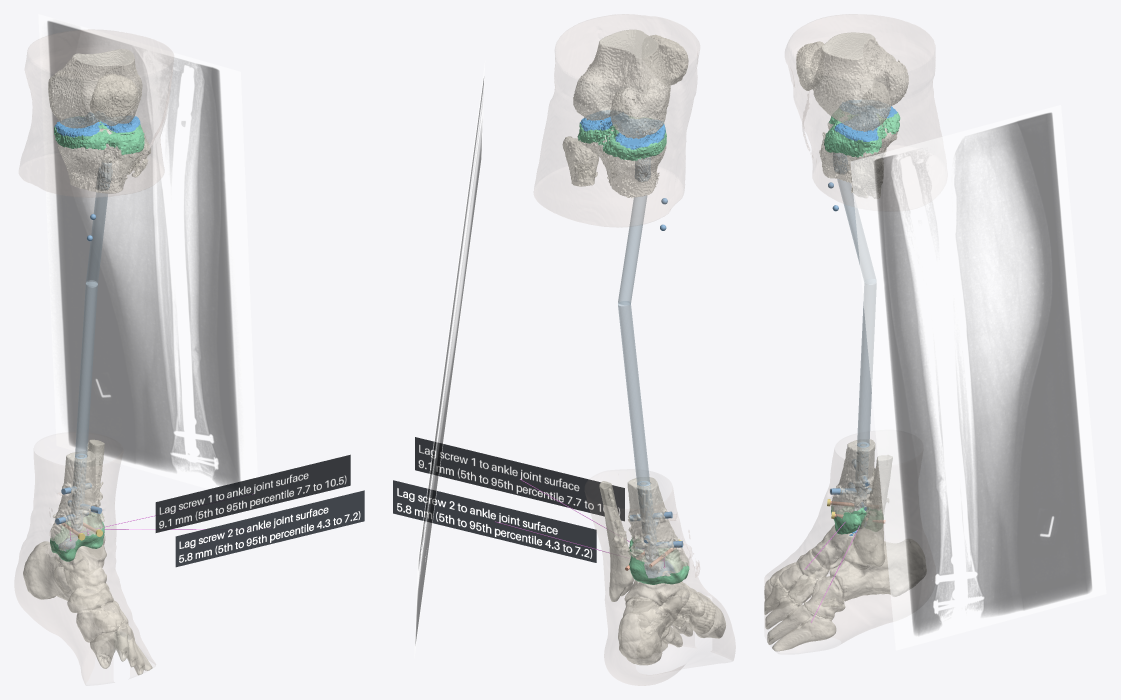
File: 2022-11-10_084754_lat.glb
3 views of the same model, side by side, from view 1: azimuth 30°, elevation 25°; view 2: azimuth 150°, elevation 25°; view 3: azimuth 270°, elevation 25° (orthographic). The views are drawn at different scales.
Visible parts, largest first — view 1: radiograph, skin, implant_8, tibia, implant_16, tarsal, femur, nail_modelled, patella, metatarsal, capsule_band_knee, nail (+3 smaller); view 2: skin, femur, implant_17, implant_9, tibia, tarsal, radiograph, nail_modelled, fibula, articular_surface_knee, capsule_band_knee, nail (+3 smaller); view 3: radiograph, skin, tarsal, femur, tibia, fibula, nail_modelled, metatarsal, capsule_band_knee, articular_surface_knee, nail, patella (+1 smaller).
Part boxes in pixels (x1,y1,x2,y2): radiograph: [38, 14, 257, 489]; skin: [15, 30, 173, 684]; implant_8: [155, 454, 350, 532]; tibia: [50, 124, 142, 551]; implant_16: [175, 490, 364, 567]; tarsal: [23, 538, 128, 642]; femur: [48, 49, 142, 128]; nail_modelled: [75, 192, 107, 458]; patella: [89, 73, 138, 126]; metatarsal: [90, 622, 152, 675]; capsule_band_knee: [54, 116, 144, 155]; nail: [70, 162, 112, 531]; skin: [534, 14, 735, 685]; femur: [573, 29, 670, 138]; implant_17: [393, 480, 596, 562]; implant_9: [415, 437, 624, 521]; tibia: [577, 123, 689, 584]; tarsal: [618, 562, 715, 665]; radiograph: [414, 61, 485, 657]; nail_modelled: [618, 195, 649, 486]; fibula: [562, 136, 633, 601]; articular_surface_knee: [580, 110, 665, 149]; capsule_band_knee: [577, 116, 666, 160]; nail: [635, 157, 658, 562]; radiograph: [850, 105, 1106, 650]; skin: [765, 14, 941, 643]; tarsal: [770, 524, 926, 619]; femur: [812, 32, 908, 131]; tibia: [819, 118, 898, 534]; fibula: [851, 155, 892, 566]; nail_modelled: [837, 178, 876, 447]; metatarsal: [764, 578, 836, 651]; capsule_band_knee: [824, 108, 900, 157]; articular_surface_knee: [834, 100, 897, 141]; nail: [833, 152, 869, 510]; patella: [796, 41, 824, 90].
Bounding box in the file's own units: 0.2864 × 0.5338 × 0.2737.
Materials: 15 (3 with a texture image).
